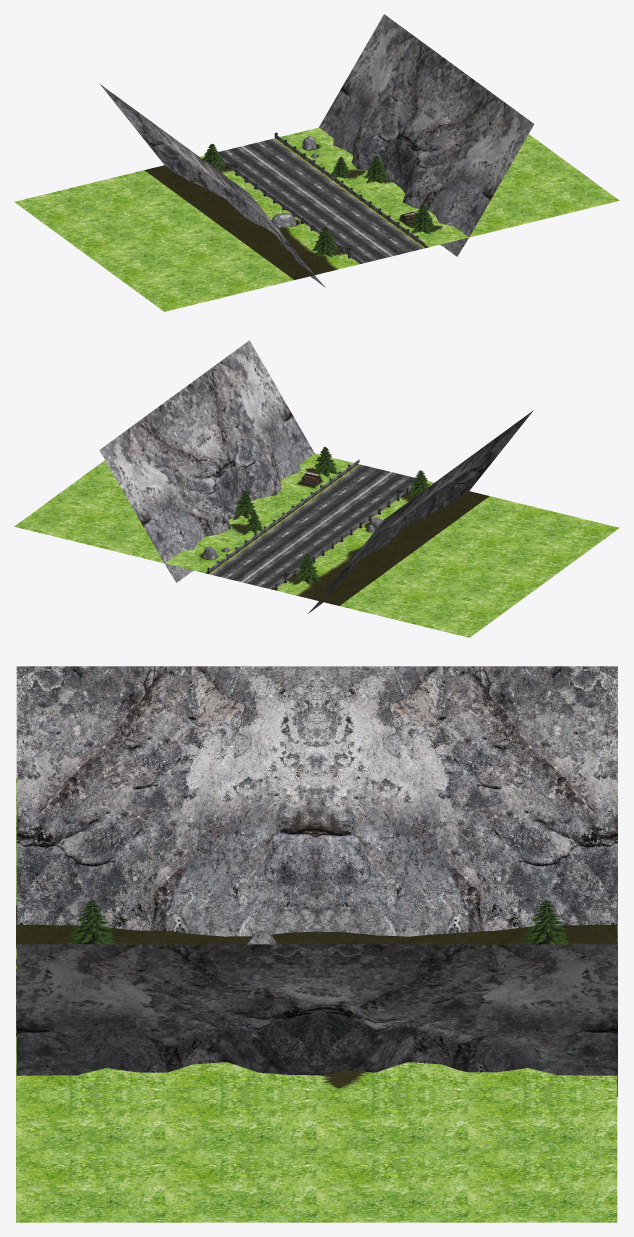
3 renders of one model, top to bottom at view 1: azimuth 30°, elevation 25°; view 2: azimuth 150°, elevation 25°; view 3: azimuth 270°, elevation 25°, orthographic. The views are drawn at different scales.
Parts seen in each view (by area): view 1: scene4, Box066, road019, Box064, rock011; view 2: scene4, Box066, road019, Box064; view 3: Box066, scene4, Box064.
Part boxes in pixels (x1,y1,x2,y2): scene4: (14,127,619,311); Box066: (100,14,534,287); road019: (207,132,424,264); Box064: (202,143,436,256); rock011: (271,136,317,227); scene4: (14,453,619,637); Box066: (99,340,533,613); road019: (207,459,424,590); Box064: (233,447,429,584); Box066: (16,666,617,1096); scene4: (16,778,617,1222); Box064: (66,899,569,944).
Bounding box in the file's own units: 140 × 33.51 × 80.06.
